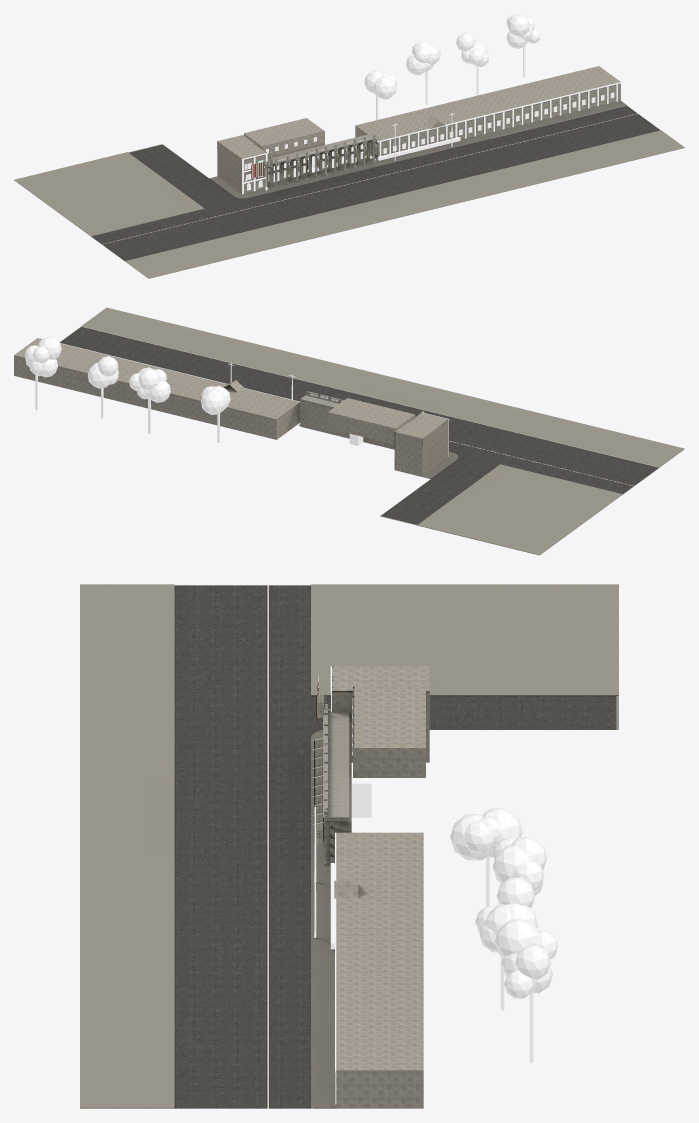
The model's file is lamarr-mgm-gate-mobile.glb.
3 renders of one model, top to bottom at view 1: azimuth 30°, elevation 25°; view 2: azimuth 150°, elevation 25°; view 3: azimuth 270°, elevation 25°, orthographic. The views are drawn at different scales.
Parts seen in each view (by area): view 1: street, sidewalk_near, corner_across, long_building, sidewalk_studio, upper_storey, artifact_corner_building, long_building_pilasters, tree_3, tree_1, portico_back_wall, tree_2 (+7 smaller); view 2: street, sidewalk_near, corner_across, long_building, artifact_corner_building, upper_storey, tree_3, tree_1, portico_back_wall, tree_2, tree_0; view 3: street, sidewalk_near, corner_across, long_building, upper_storey, sidewalk_studio, tree_3, artifact_corner_building, tree_0, artifact_colonnade, tree_2, tree_1 (+1 smaller).
Part boxes in pixels (left/top/right/bottom): street: left=91, top=106, right=660, bottom=260; sidewalk_near: left=125, top=130, right=684, bottom=278; corner_across: left=14, top=152, right=204, bottom=236; long_building: left=355, top=66, right=620, bottom=159; sidewalk_studio: left=209, top=100, right=626, bottom=198; upper_storey: left=244, top=118, right=324, bottom=158; artifact_corner_building: left=217, top=135, right=266, bottom=193; long_building_pilasters: left=377, top=82, right=621, bottom=155; tree_3: left=506, top=14, right=540, bottom=77; tree_1: left=406, top=41, right=440, bottom=104; portico_back_wall: left=268, top=142, right=370, bottom=183; tree_2: left=456, top=33, right=488, bottom=95; street: left=60, top=326, right=658, bottom=525; sidewalk_near: left=81, top=307, right=684, bottom=467; corner_across: left=417, top=464, right=622, bottom=555; long_building: left=14, top=338, right=300, bottom=439; artifact_corner_building: left=394, top=412, right=448, bottom=476; upper_storey: left=328, top=398, right=415, bottom=444; tree_3: left=24, top=336, right=61, bottom=410; tree_1: left=129, top=367, right=170, bottom=433; portico_back_wall: left=300, top=401, right=394, bottom=449; tree_2: left=87, top=356, right=118, bottom=418; tree_0: left=201, top=385, right=230, bottom=442; street: left=174, top=585, right=618, bottom=1108; sidewalk_near: left=80, top=584, right=174, bottom=1108; corner_across: left=311, top=584, right=618, bottom=695; long_building: left=336, top=832, right=423, bottom=1108; upper_storey: left=353, top=686, right=425, bottom=777; sidewalk_studio: left=311, top=730, right=348, bottom=1108; tree_3: left=495, top=919, right=558, bottom=1062; artifact_corner_building: left=332, top=666, right=429, bottom=762; tree_0: left=450, top=808, right=522, bottom=906; artifact_colonnade: left=323, top=709, right=349, bottom=821; tree_2: left=475, top=877, right=538, bottom=1010; tree_1: left=492, top=837, right=547, bottom=894.
Size of what is drawn, in the model's own units: 170 by 20.17 by 74.
5 materials, 4 textured.
